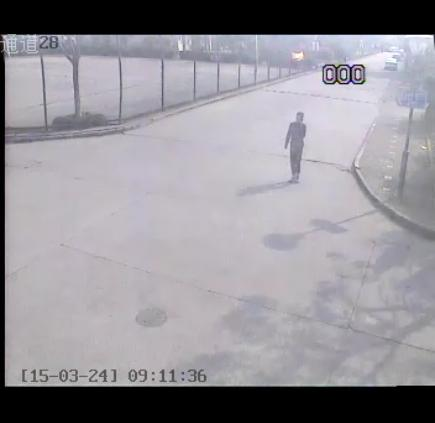person: (282, 102, 312, 189)
